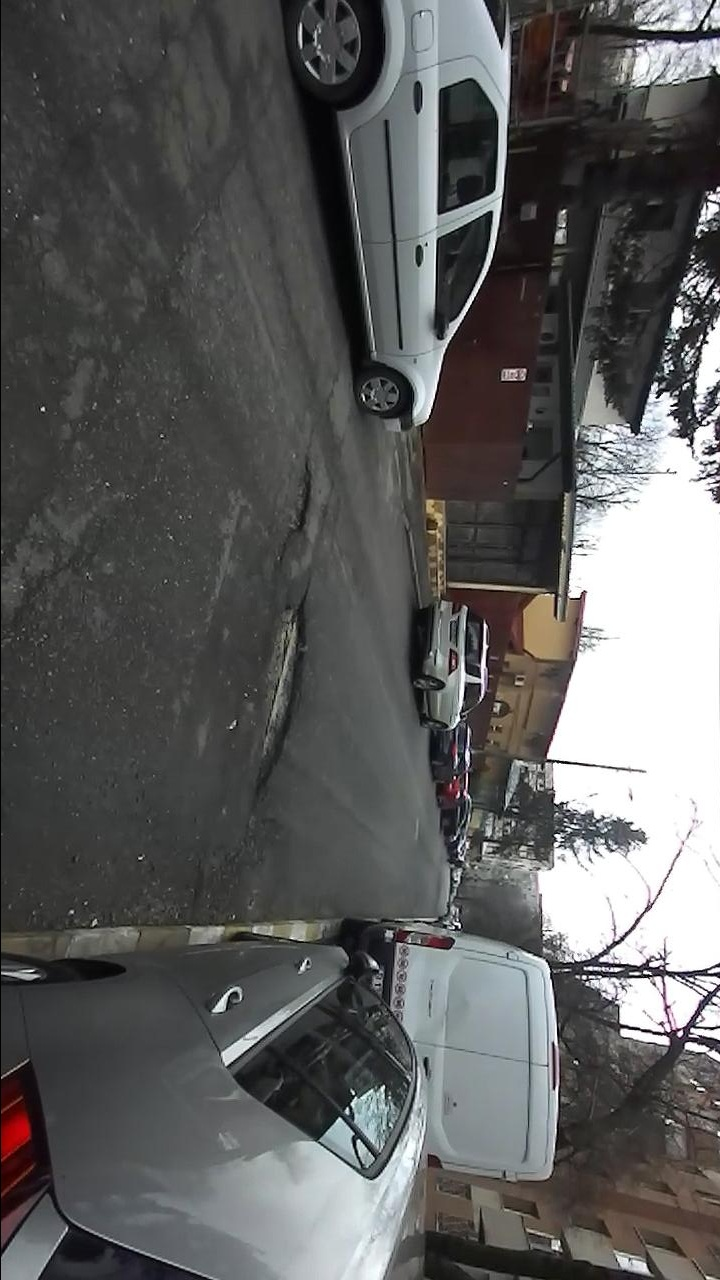pothole: (244, 579, 317, 811), (274, 449, 317, 569)
